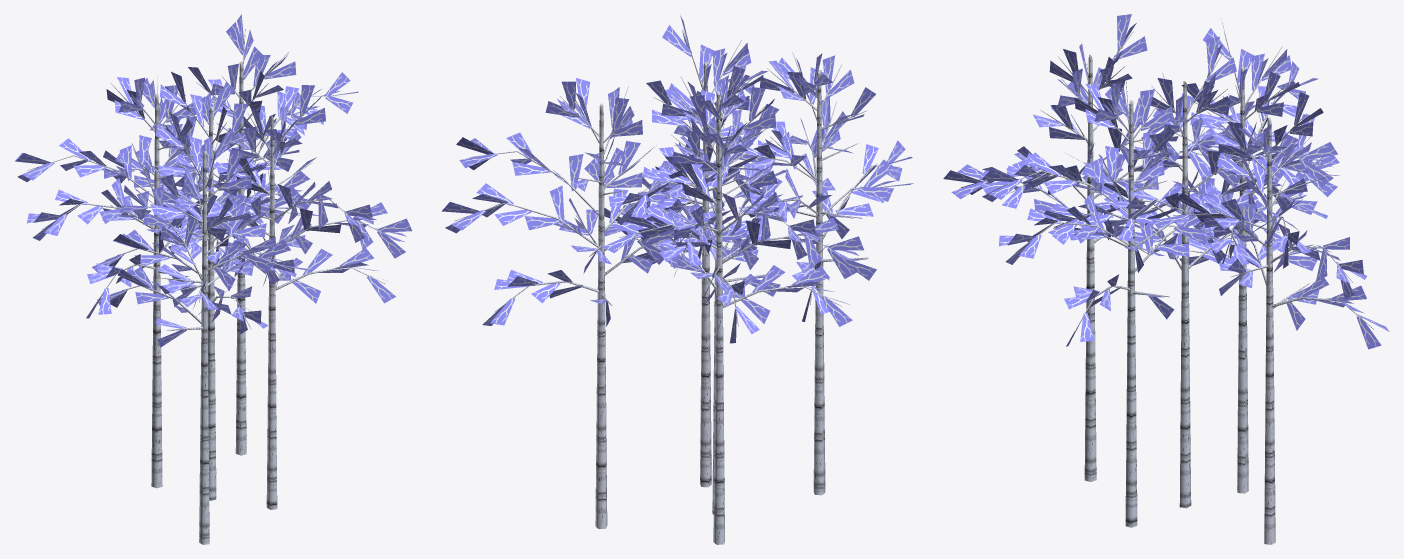
File: BirchGroup.fbx
The picture shows the model from 3 angles, left to right: view 1: azimuth 30°, elevation 25°; view 2: azimuth 150°, elevation 25°; view 3: azimuth 270°, elevation 25°; orthographic projection. The views are drawn at different scales.
Visible parts, largest first — view 1: LOD0; view 2: LOD0; view 3: LOD0.
Boxes of the visible parts, <box> form: LOD0: <box>15,14,412,544</box>; LOD0: <box>441,15,913,544</box>; LOD0: <box>943,14,1389,544</box>.
Size of what is drawn, in the model's own units: 478 by 552 by 489.
